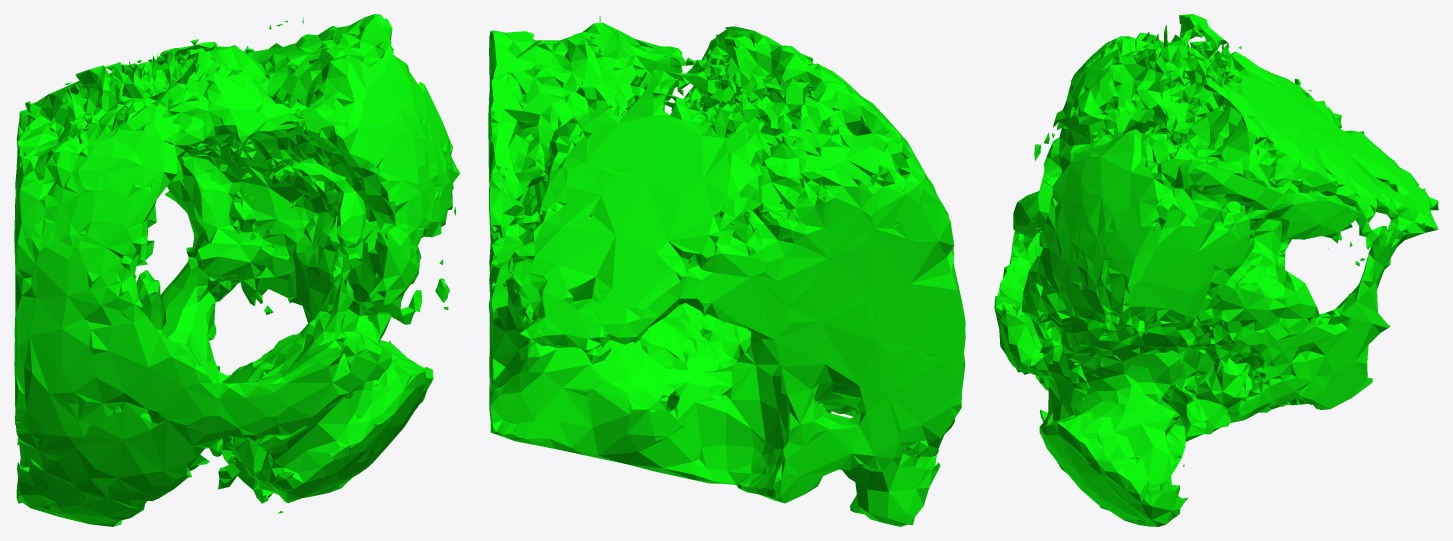
Rendered from B939XXXX-1_base_21.obj.
3 renders of one model, left to right at view 1: azimuth 30°, elevation 25°; view 2: azimuth 150°, elevation 25°; view 3: azimuth 270°, elevation 25°, orthographic. The views are drawn at different scales.
Parts seen in each view (by area): view 1: 21_base; view 2: 21_base; view 3: 21_base.
Boxes of the visible parts, x1=… form: 21_base: x1=14, y1=14, x2=459, y2=526; 21_base: x1=488, y1=16, x2=965, y2=526; 21_base: x1=994, y1=14, x2=1438, y2=526.
Size of the model in its own units: 218 by 212 by 203.
